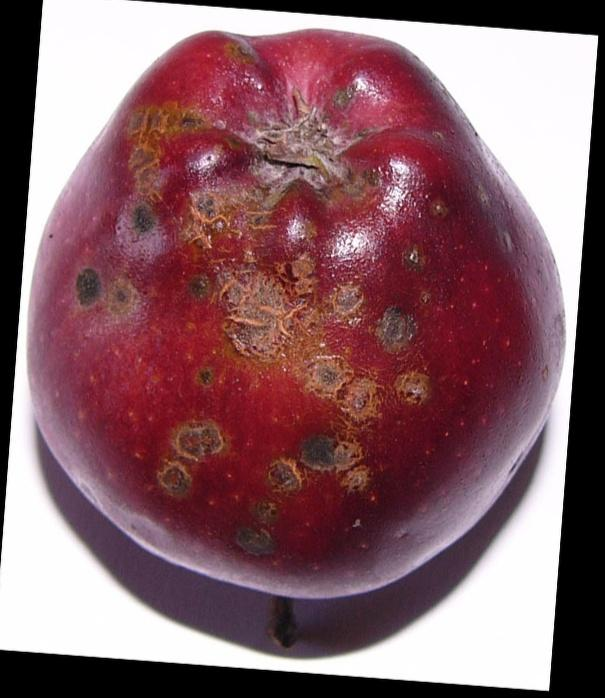rotten apple: (25, 27, 565, 613)
